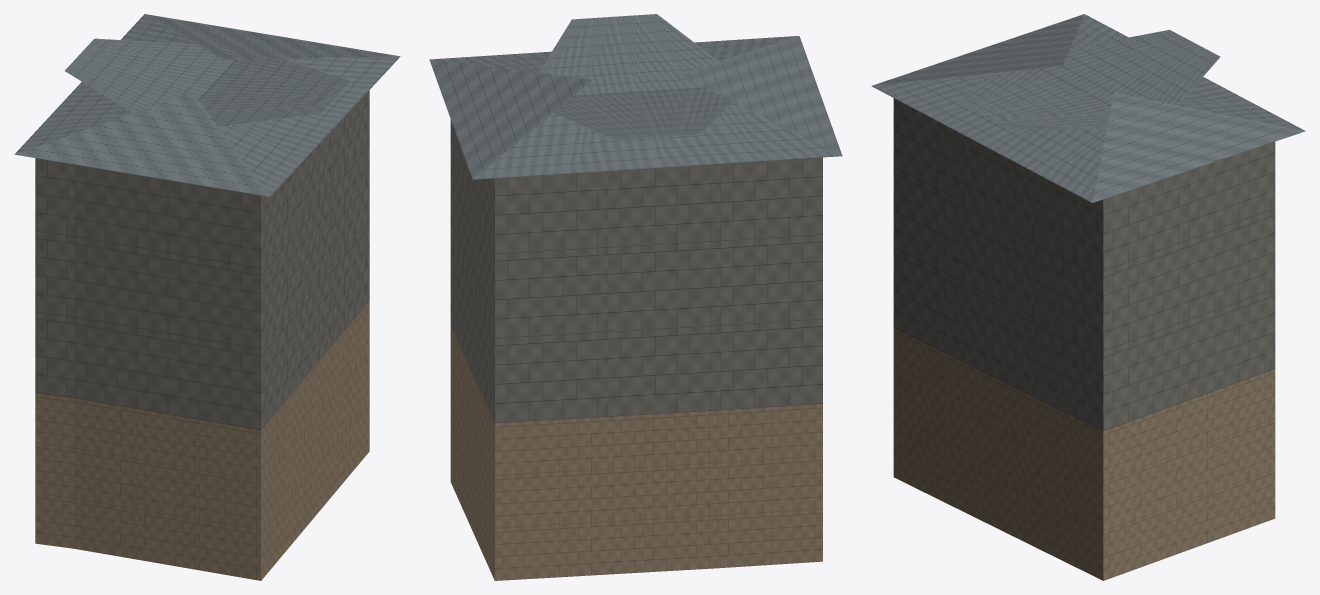
Rendered from bld_c22_-48_537.gltf.
The picture shows the model from 3 angles, left to right: view 1: azimuth 30°, elevation 25°; view 2: azimuth 150°, elevation 25°; view 3: azimuth 270°, elevation 25°; orthographic projection. The views are drawn at different scales.
Parts seen in each view (by area): view 1: bld_c22_-48_537; view 2: bld_c22_-48_537; view 3: bld_c22_-48_537.
Boxes of the visible parts, bbox=[...] form: bld_c22_-48_537: bbox=[14, 14, 400, 580]; bld_c22_-48_537: bbox=[429, 14, 842, 580]; bld_c22_-48_537: bbox=[871, 14, 1305, 580].
Bounding box in the file's own units: 13.83 × 14.3 × 13.44.
3 materials, 3 textured.
